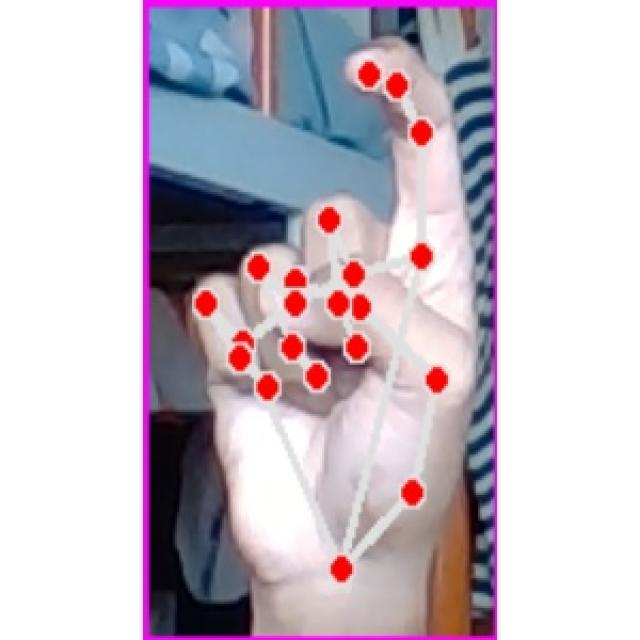X: (182, 29, 479, 606)
